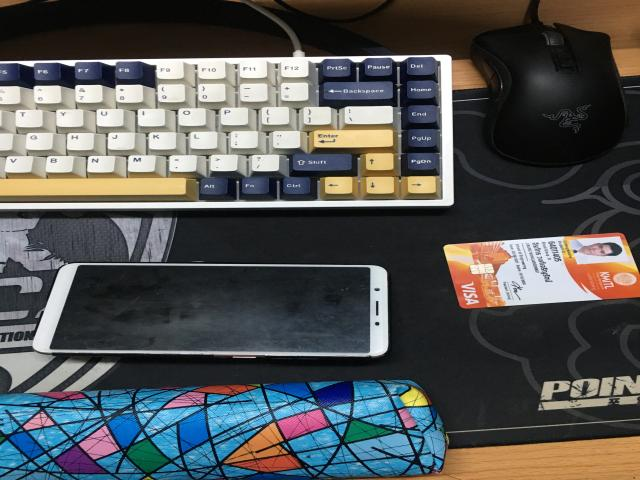Mobile phone: (33, 262, 388, 357)
Mouse: (470, 0, 625, 166)
